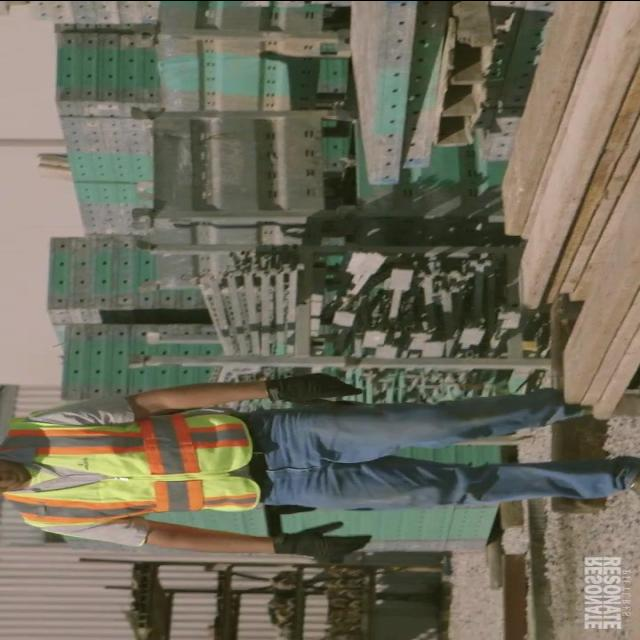jacket: (0, 396, 275, 530)
